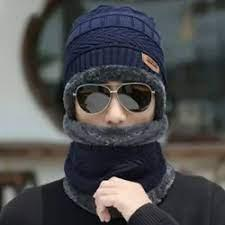cap: (59, 3, 184, 112)
scarf-kerchief: (59, 108, 179, 185)
sunglasses: (76, 78, 155, 119)
